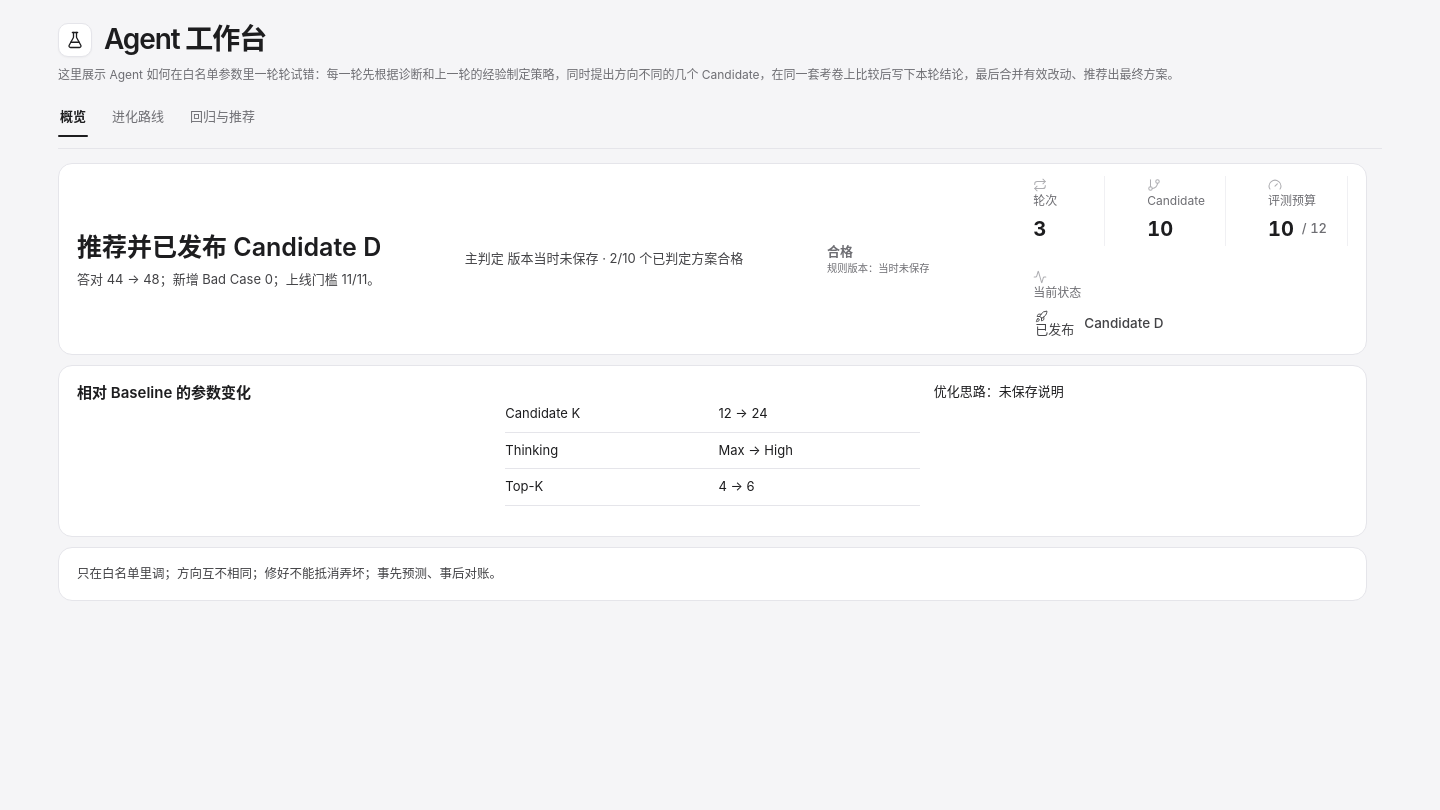
Test: switches a single visible route round and D container while retaining candidate details
Later steps or results of the test are not shown.
Click the button "进化路线" at (138, 116), box [110,96,166,136]
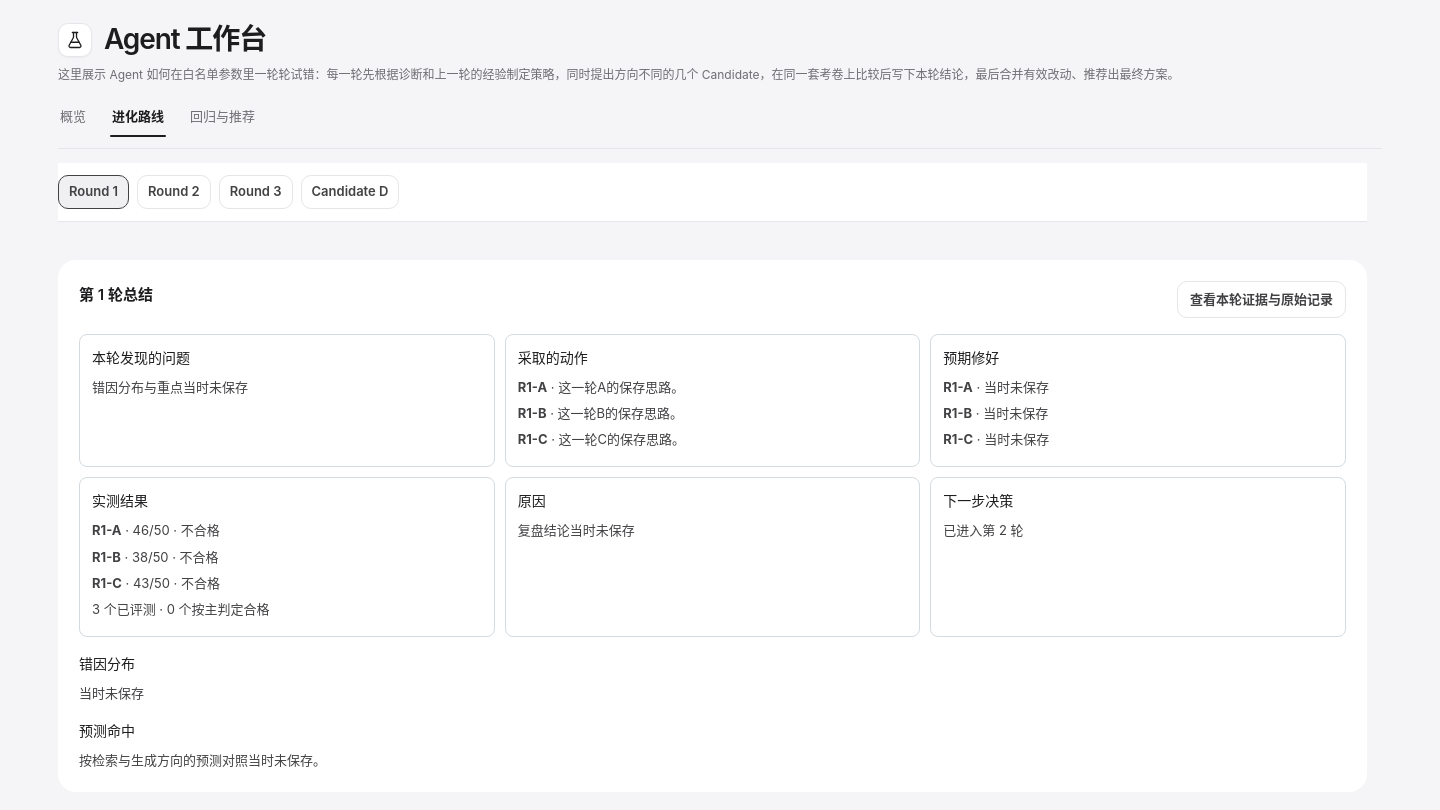
Now the button "Round 1" is shown, box [58,175,129,209]
Now the element with class "agent-round-strategy" shows "这一轮A的保存思路。", box [558,379,684,395]
Click the button "Round 3" at (256, 192), box [219,175,292,209]
(page scrolled)
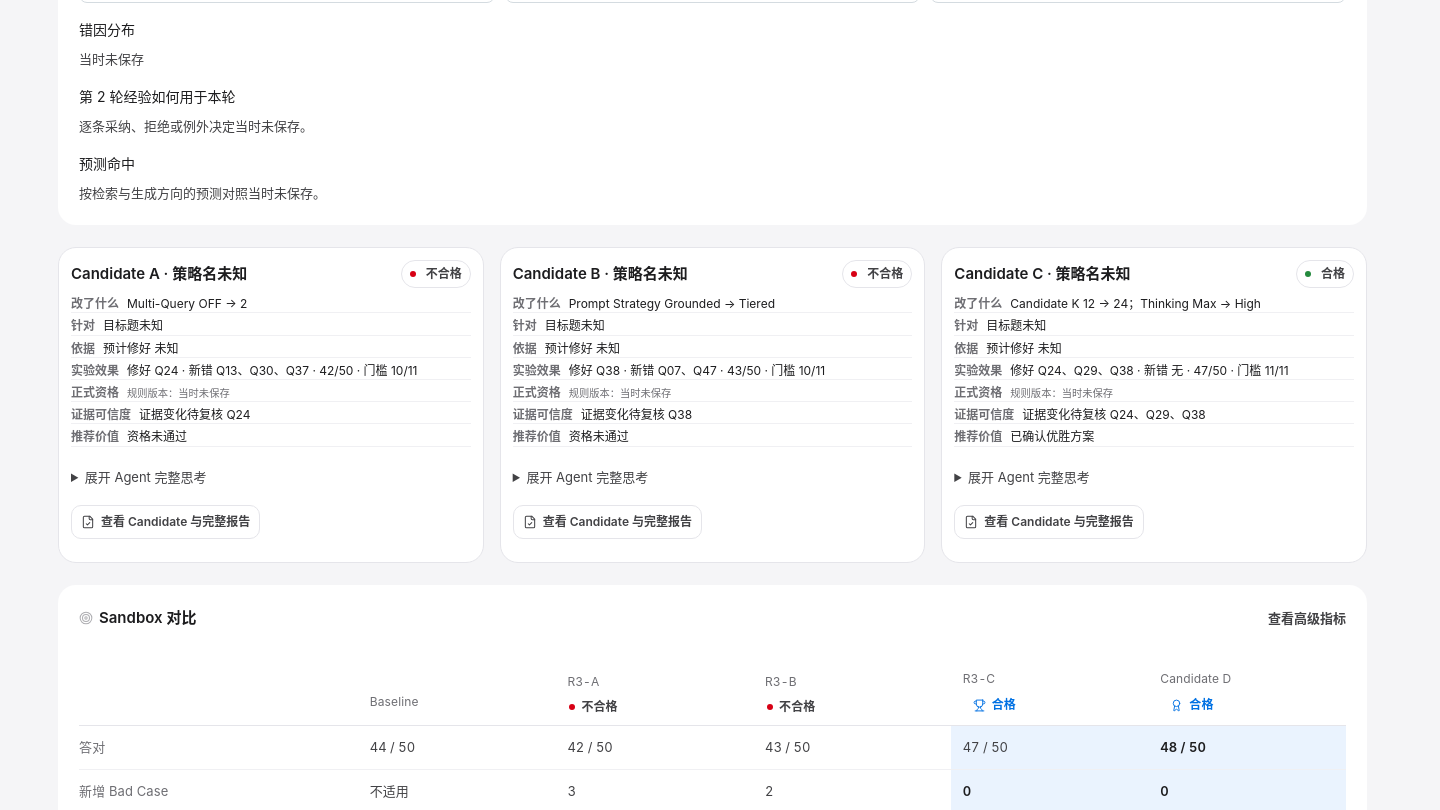
Now the number of elements with class "ui-evo-card" is 3
Now the element with class "ui-evo-card" that starts with "Candidate C · 策略名未知" is shown, box [941,247,1367,563]
Click the element with class "ui-evo-card" that starts with "Candidate A · 策略名未知" at (271, 405), box [58,247,484,563]
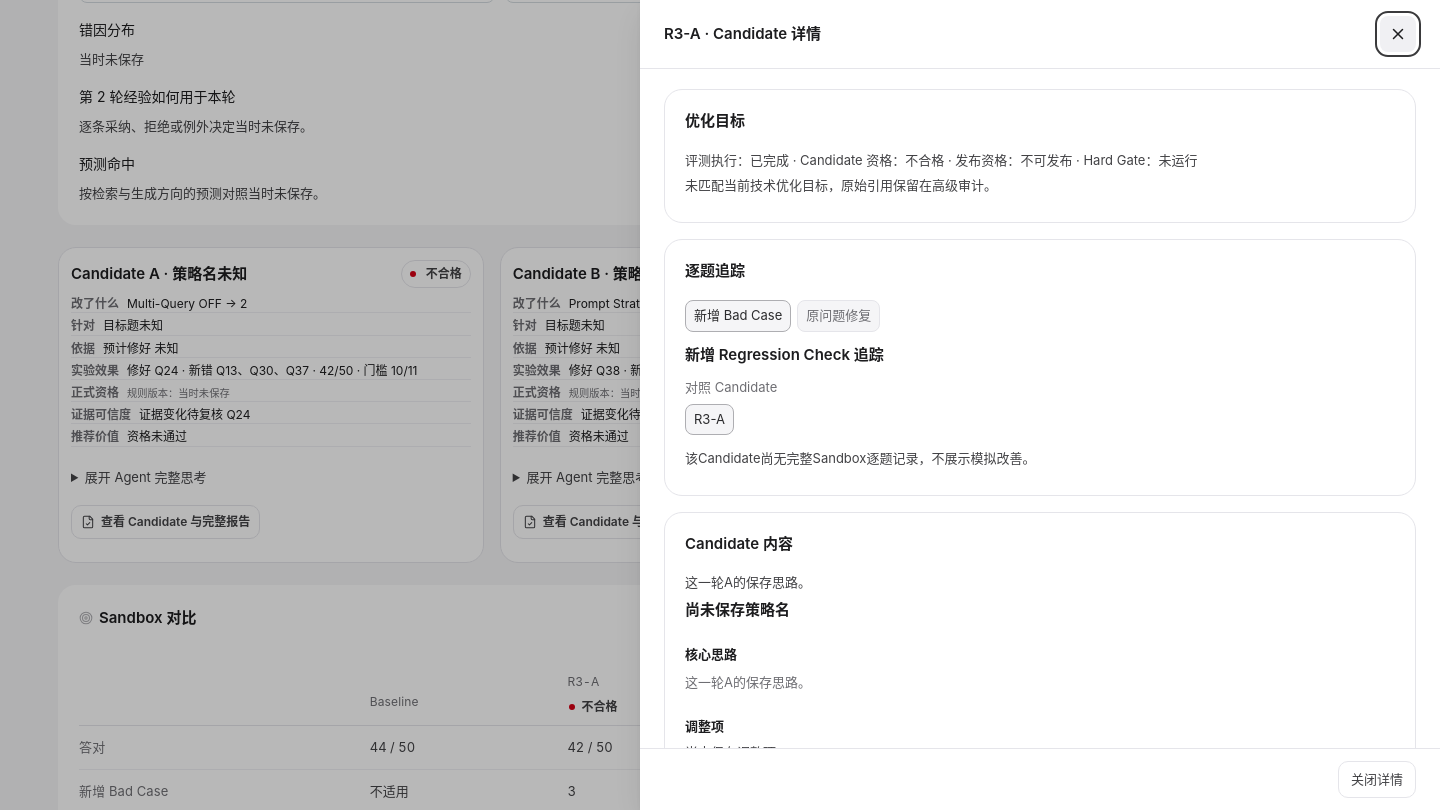
Now the dialog shows "Candidate 详情", box [664,24,821,43]
